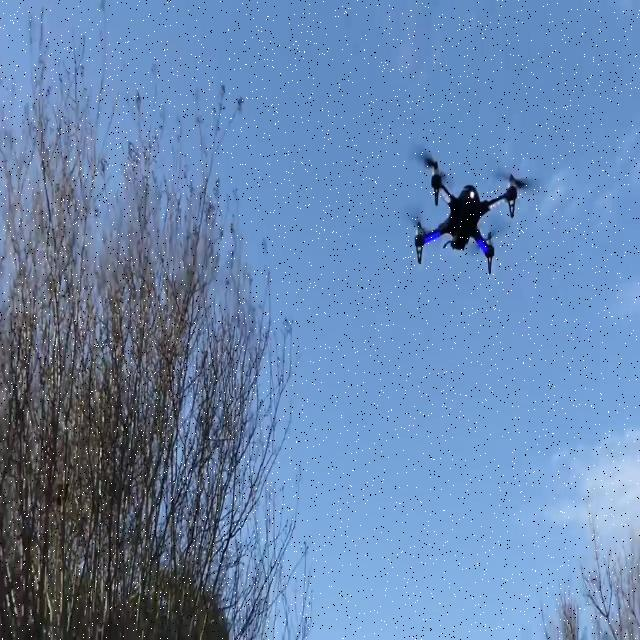UAV: (402, 142, 540, 276)
